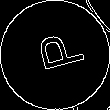P_W: (26, 30, 84, 80)
